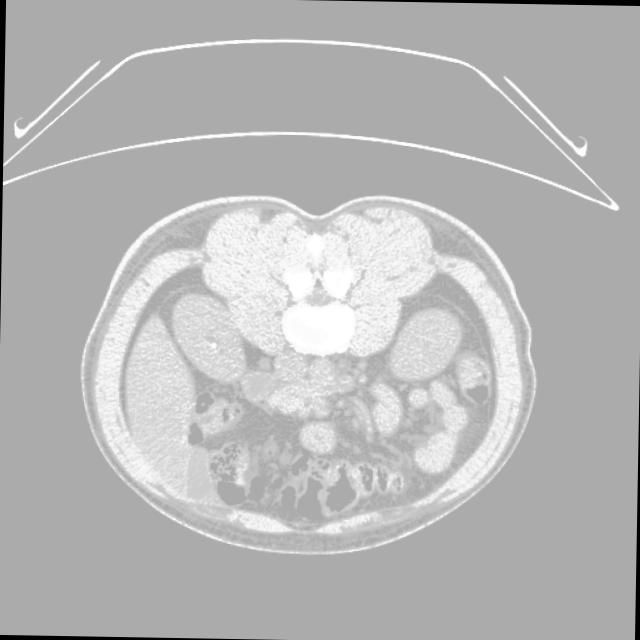STONE: (152, 349, 520, 515)
